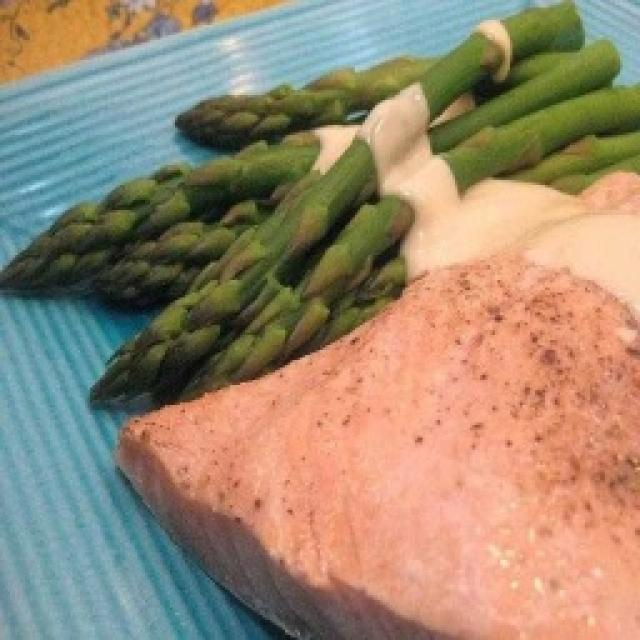Asparagus spear: (196, 201, 344, 314), (37, 177, 173, 252), (179, 85, 352, 135)
